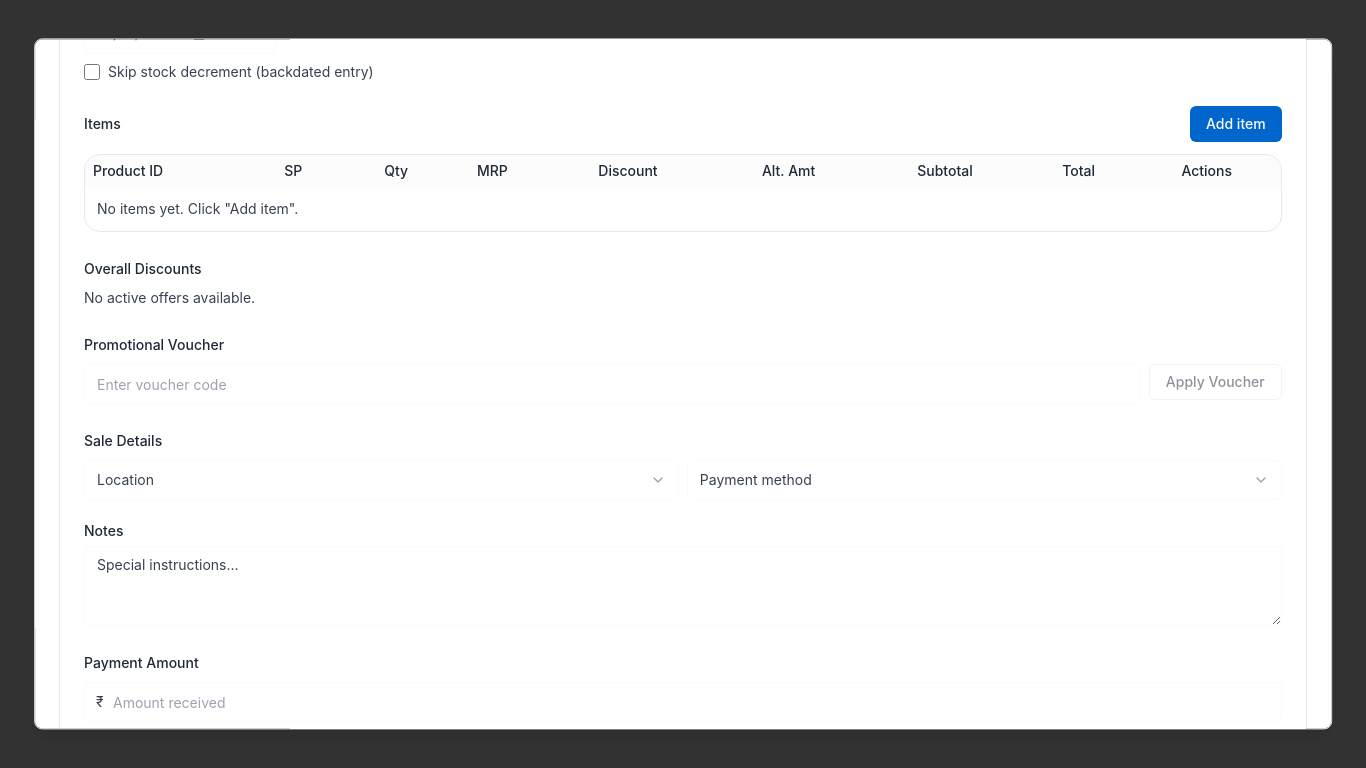
Test: a voucher held for an online order shows the reserved message and is not applied
(page scrolled)
In the field with placeholder "Enter voucher code": (613, 384) [84, 364, 1141, 404], type "HELD1"
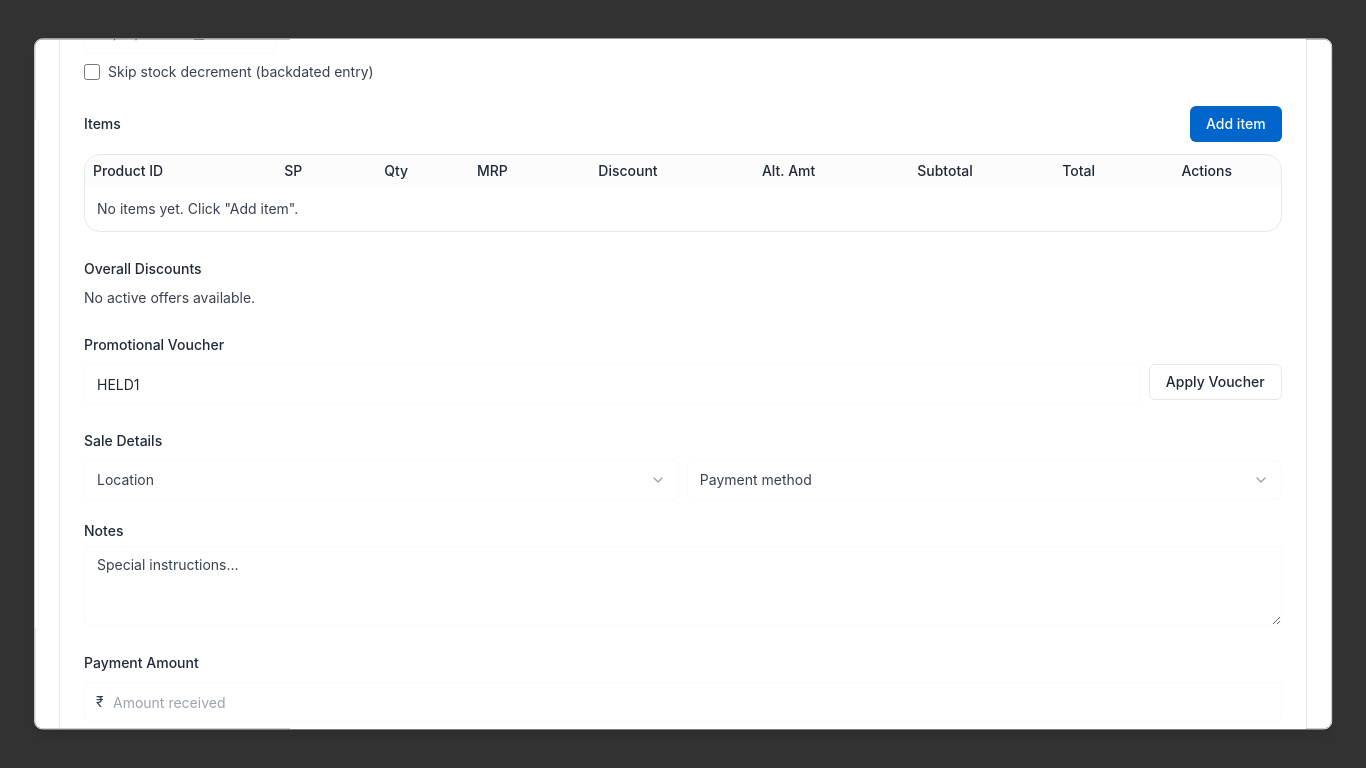
Click the button "Apply Voucher": (1215, 382) [1149, 364, 1282, 400]
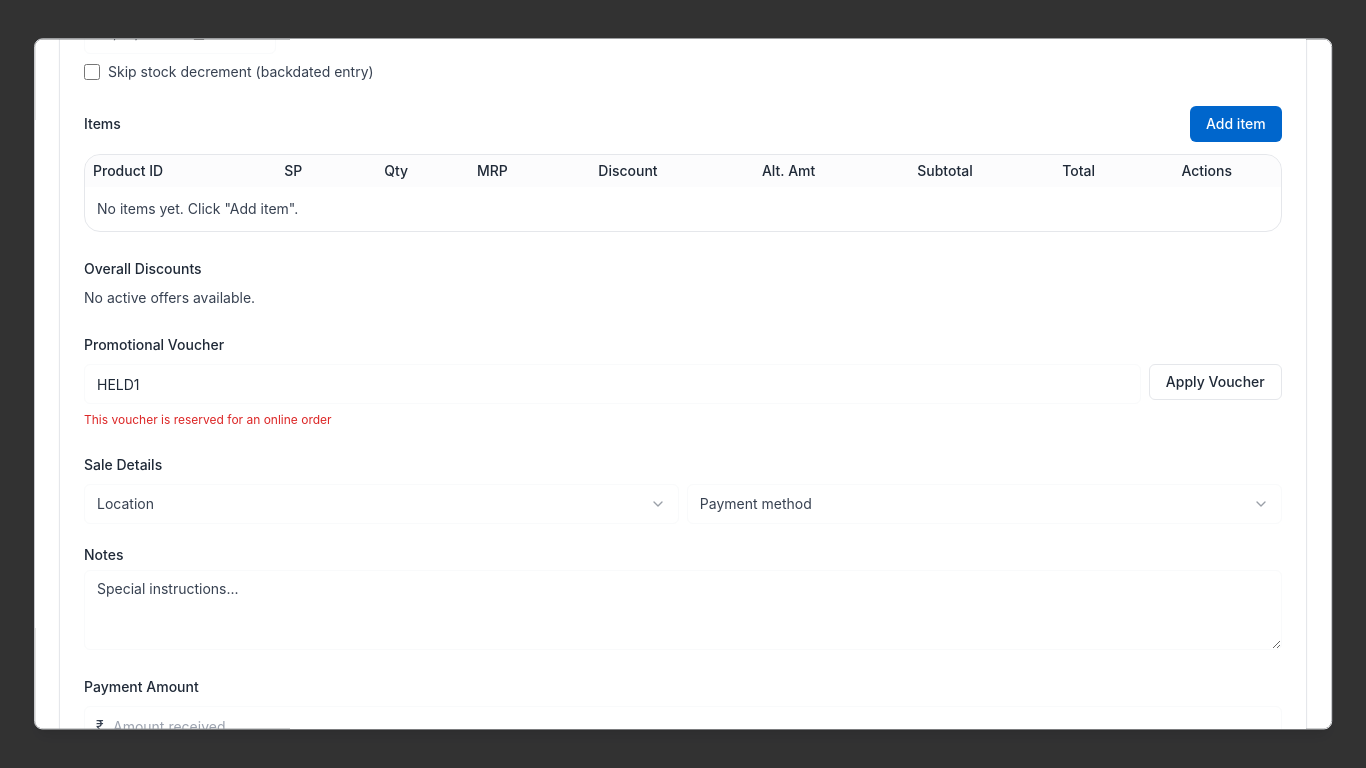
Expected: the text "This voucher is reserved for an online order" is shown, [84, 412, 332, 427]
